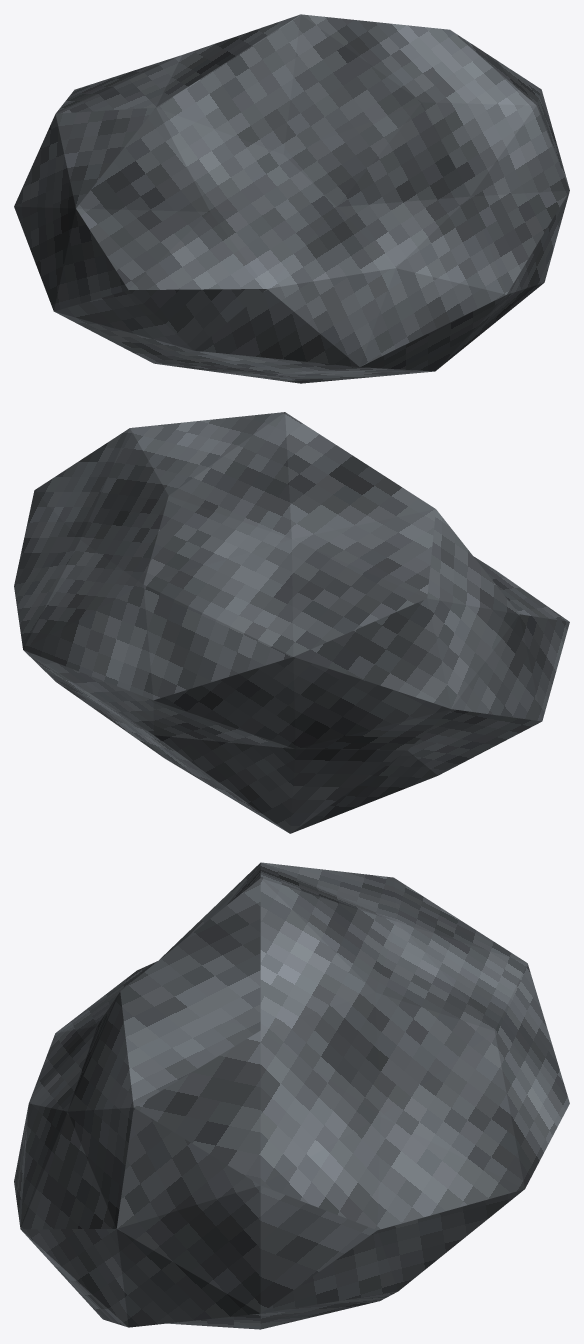
Rendered from Astreroid_5.fbx.
3 renders of one model, top to bottom at view 1: azimuth 30°, elevation 25°; view 2: azimuth 150°, elevation 25°; view 3: azimuth 270°, elevation 25°, orthographic. The views are drawn at different scales.
Parts seen in each view (by area): view 1: Asteroid_LowPoly; view 2: Asteroid_LowPoly; view 3: Asteroid_LowPoly.
Part boxes in pixels (x1,y1,x2,y2): Asteroid_LowPoly: [14, 14, 569, 383]; Asteroid_LowPoly: [14, 412, 569, 833]; Asteroid_LowPoly: [14, 862, 569, 1329].
Size of the model in its own units: 502 by 359 by 401.
